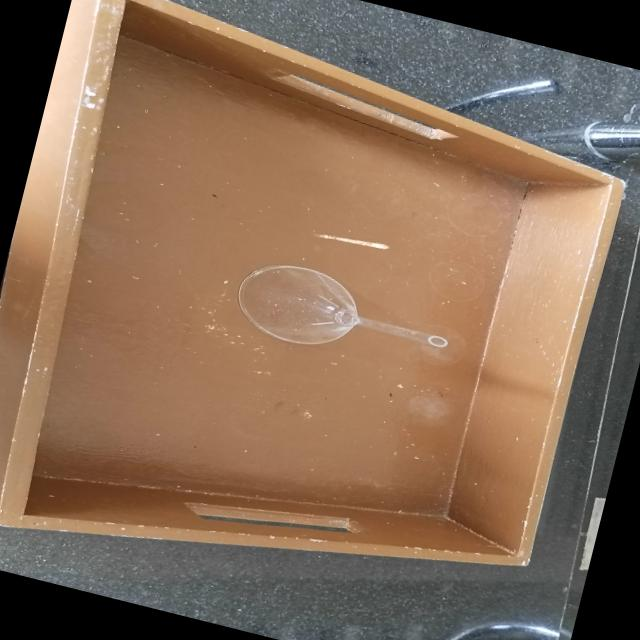funnel: (222, 242, 460, 388)
